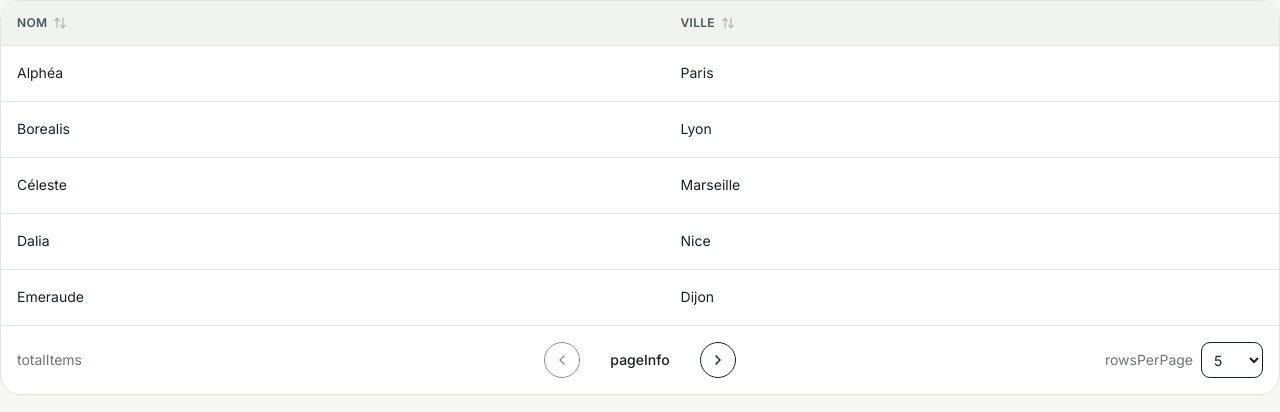
Scenario: DataTable › renders only the active page and moves the sixth row to page two
expect the text "Emeraude" is shown: met, box [1,269,664,325]
expect the text "Fjord" is not shown: met
Click the button named "next": (718, 360) [700,342,736,378]
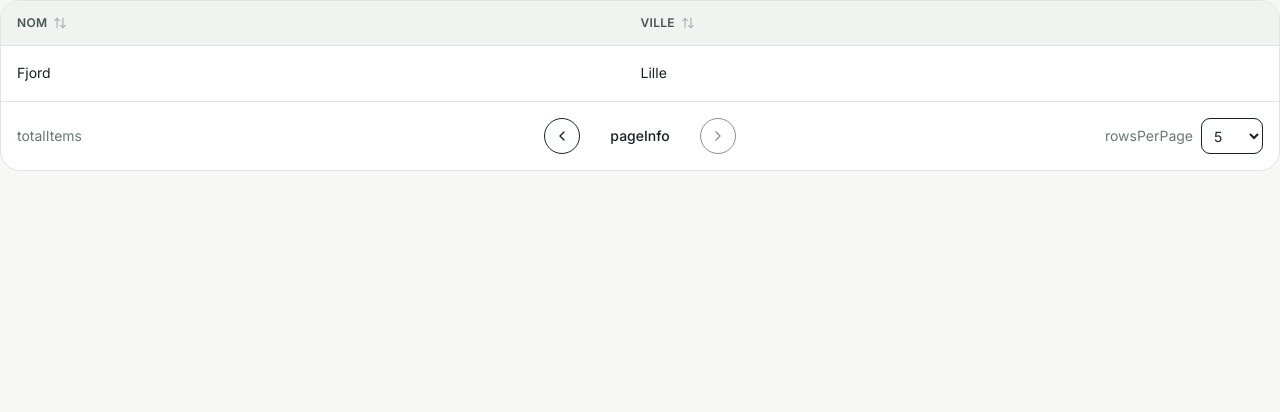
expect the text "pageInfo" is shown: met, box [610,127,670,144]
expect the text "Fjord" is shown: met, box [1,45,624,101]
expect the text "Alphéa" is gone: met
